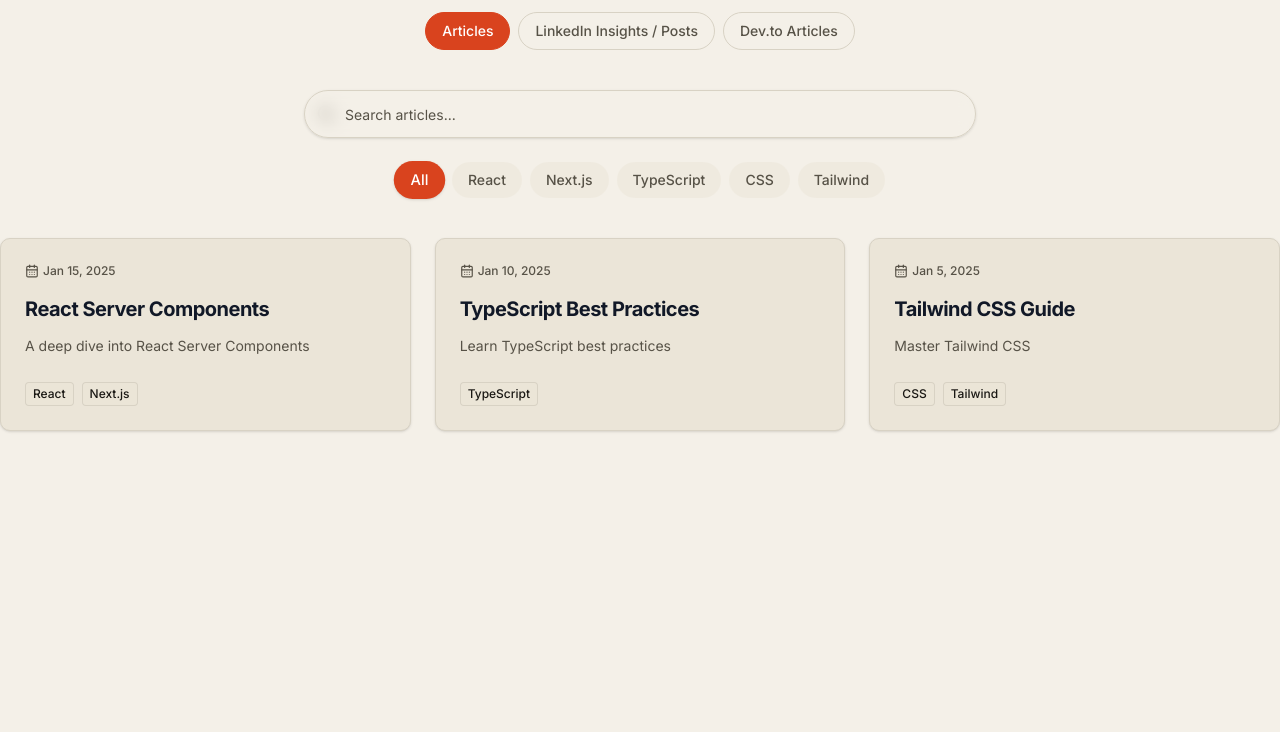
Test case: BlogList › should show empty state when no posts match
Type "NonExistentPost" into the field with placeholder "Search articles...". click: (640, 114)
box: [304,90,976,138]
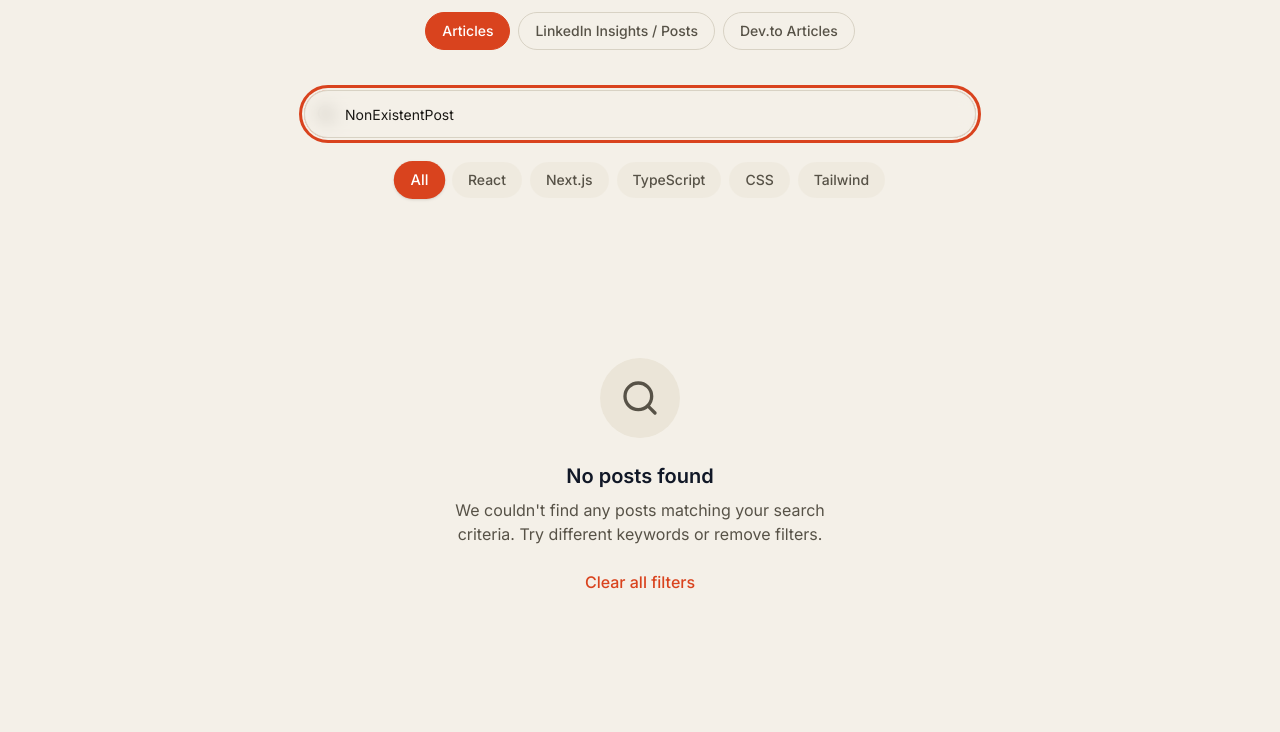
expect the heading "No posts found" is shown: met, box [566,464,714,488]
expect the button "Clear all filters" is shown: met, box [585,570,695,594]
